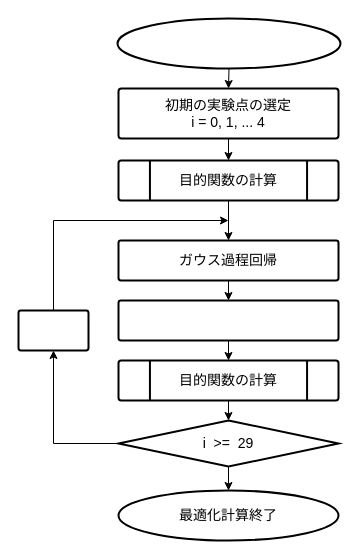
Some shapes in this 358 by 558 pixel diagram are drawn without their labels. Here are the shapes that lost their labels. From the top down, the centre of each, then its label:
At (228,43): "最適化計算開始".
At (53,330): "i += 1".
At (228,320): "argmax : 獲得関数(x)".
